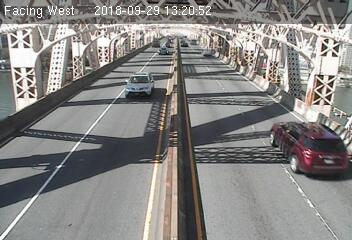car: (267, 122, 352, 182), (123, 69, 156, 101), (157, 45, 172, 57)
